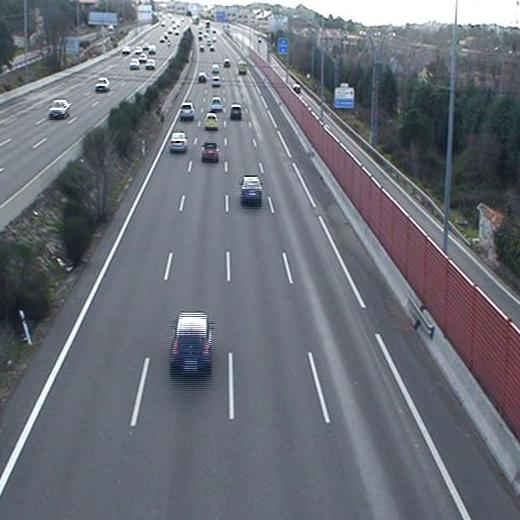car: (169, 314, 213, 373), (241, 176, 264, 204), (201, 142, 218, 161), (171, 132, 186, 153), (179, 103, 194, 119), (204, 113, 218, 129), (230, 105, 242, 119), (210, 98, 221, 113), (212, 77, 221, 87)
